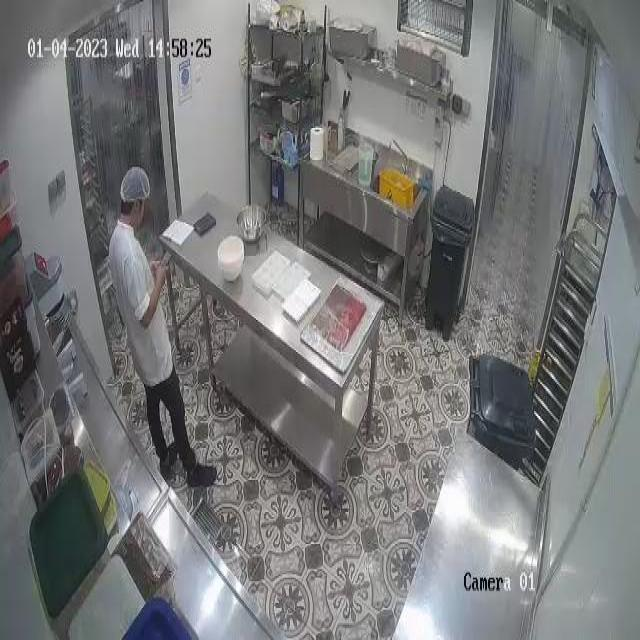hairnet: (119, 170, 150, 201)
